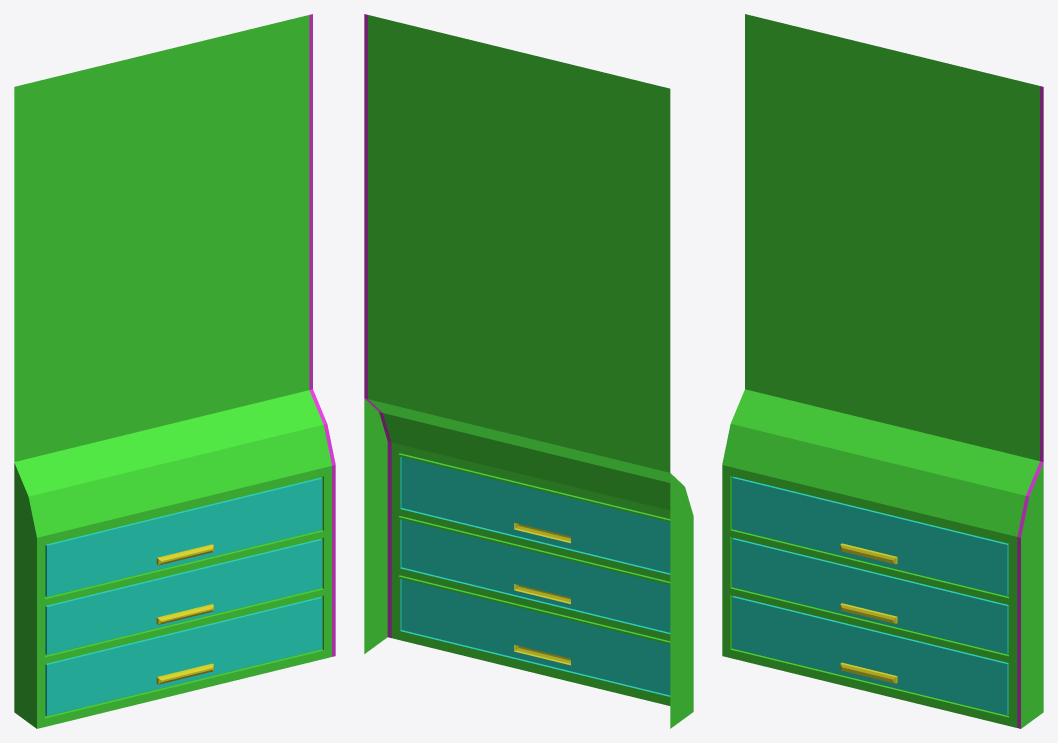
File: Wall_43_J_Straight.fbx
3 views of the same model, side by side, from view 1: azimuth 30°, elevation 25°; view 2: azimuth 150°, elevation 25°; view 3: azimuth 330°, elevation 25° (orthographic). The views are drawn at different scales.
Visible parts, largest first — view 1: Wall_43_J_Straight; view 2: Wall_43_J_Straight; view 3: Wall_43_J_Straight.
Part boxes in pixels (left/top/right/bottom): Wall_43_J_Straight: left=14, top=14, right=335, bottom=728; Wall_43_J_Straight: left=364, top=14, right=693, bottom=728; Wall_43_J_Straight: left=722, top=14, right=1043, bottom=728.
Size of the model in its own units: 229 by 457 by 33.33.
